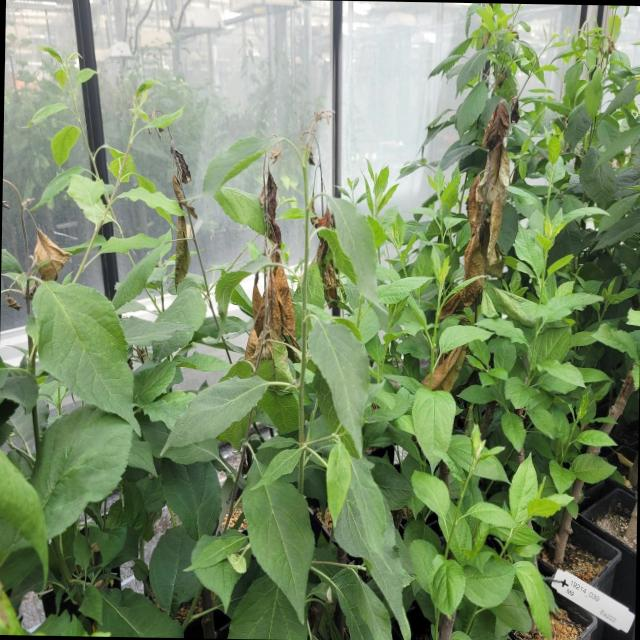-FireBlight-: (447, 106, 512, 320), (248, 150, 302, 361), (2, 175, 72, 277), (310, 168, 339, 313), (165, 144, 193, 283)
